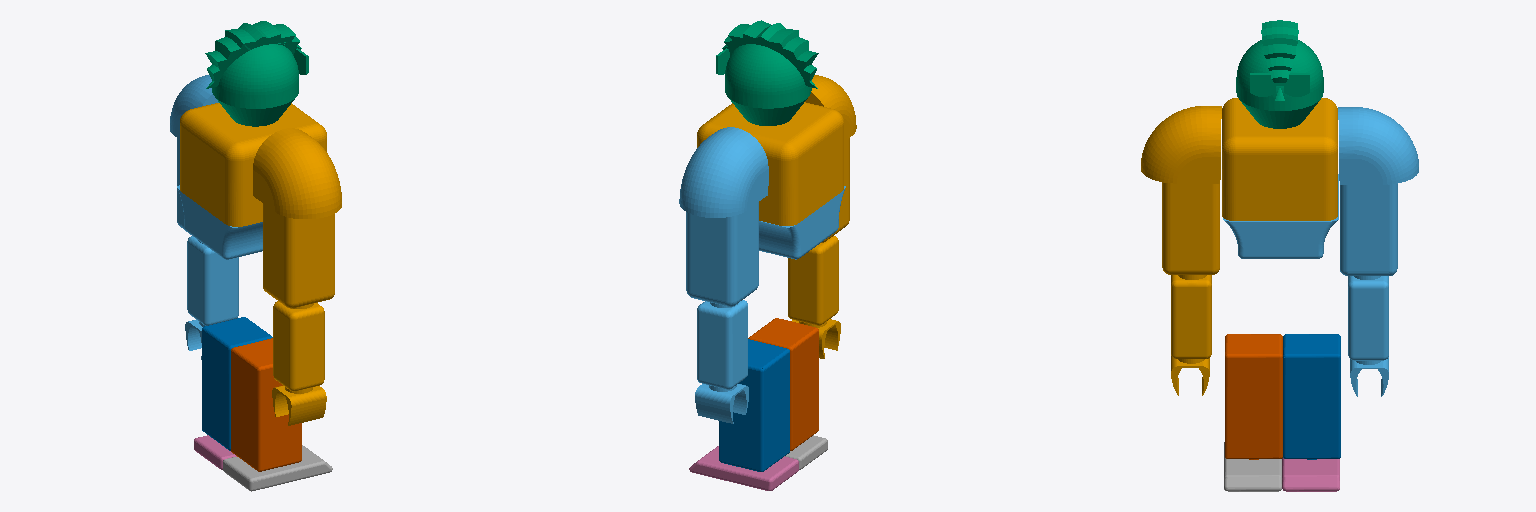
The robot description file, URDF, robot "origins":
<?xml version="1.0"?>
<robot name="origins">
  <link name="base_link">
    <visual>
      <origin rpy="0 0 1.5708" xyz="-0.11 -0.2 1.02"/>
      <geometry>
        <mesh filename="package://project_ars/meshes/BodySae1.dae"/>
      </geometry>
    </visual>
     <collision>
      <geometry>
        <mesh filename="package://project_ars/meshes/BodySae1.dae"/>
      </geometry>
      <origin rpy="0 0 1.5708" xyz="-0.11 -0.2 1.02"/>
    </collision>
    <inertial>
      <mass value="30"/>
      <inertia ixx="1e-3" ixy="0.0" ixz="0.0" iyy="1e-3" iyz="0.0" izz="1e-3"/>
    </inertial>
  </link>
  
  <link name="pelvis">
    <visual>
      <origin rpy="0 0 1.5708" xyz="-0.11 -0.2 -0.05"/>
      <geometry>
        <mesh filename="package://project_ars/meshes/PelvisSet.dae"/>
      </geometry>
    </visual>
     <collision>
      <geometry>
        <mesh filename="package://project_ars/meshes/PelvisSet.dae"/>
      </geometry>
      <origin rpy="0 0 1.5708" xyz="-0.11 -0.2 -0.05"/>
    </collision>
    <inertial>
      <mass value="10"/>
      <inertia ixx="1e-3" ixy="0.0" ixz="0.0" iyy="1e-3" iyz="0.0" izz="1e-3"/>
    </inertial>
  </link>
  
  <joint name="base_link_to_pelvis" type="fixed">
    <axis xyz="0 -0.5 0"/>
    <limit effort="1000.0" lower="-0.850" upper="1.3" velocity="0.5"/>
    <parent link="base_link"/>
    <child link="pelvis"/>
    <origin rpy="0 0 0" xyz="0 0 0.92"/>
  </joint>
  
<link name="left_leg">
    <visual>
      <origin rpy="1.5708 0 1.5708" xyz="-0.1 -0.09 -0.44"/>
      <geometry>
        <mesh filename="package://project_ars/meshes/Leg1.dae"/>
      </geometry>
    </visual>
    <collision>
      <geometry>
        <mesh filename="package://project_ars/meshes/Leg1.dae"/>
      </geometry>
      <origin rpy="1.5708 0 1.5708" xyz="-0.1 -0.09 -0.44"/>
    </collision>
    <inertial>
      <mass value="15"/>
      <inertia ixx="1e-3" ixy="0.0" ixz="0.0" iyy="1e-3" iyz="0.0" izz="1e-3"/>
    </inertial>
  </link>
  
  <joint name="pelvis_to_left_leg" type="revolute">
    <axis xyz="0 -0.5 0.45"/>
    <limit effort="1000.0" lower="-0.850" upper="1.3" velocity="0.5"/>
    <parent link="pelvis"/>
    <child link="left_leg"/>
    <origin rpy="0 0 0" xyz="0.1 0.1 -0.05"/>
  </joint>
  
  <link name="right_leg">
    <visual>
      <origin rpy="1.5708 0 1.5708" xyz="-0.1 -0.09 -0.44"/>
      <geometry>
        <mesh filename="package://project_ars/meshes/Leg1.dae"/>
      </geometry>
    </visual>
    <collision>
      <geometry>
        <mesh filename="package://project_ars/meshes/Leg1.dae"/>
      </geometry>
      <origin rpy="1.5708 0 1.5708" xyz="-0.1 -0.09 -0.44"/>
    </collision>
    <inertial>
      <mass value="15"/>
      <inertia ixx="1e-3" ixy="0.0" ixz="0.0" iyy="1e-3" iyz="0.0" izz="1e-3"/>
    </inertial>
  </link>
  
  <joint name="pelvis_to_right_leg" type="revolute">
    <axis xyz="0 -0.5 0"/>
    <limit effort="1000.0" lower="-0.850" upper="1.3" velocity="0.5"/>
    <parent link="pelvis"/>
    <child link="right_leg"/>
    <origin rpy="0 0 0" xyz="0.1 -0.1 -0.05"/>
  </joint>
  
  <link name="left_leg2">
    <visual>
      <origin rpy="1.5708 0 1.5708" xyz="-0.1 -0.09 -0.4"/>
      <geometry>
        <mesh filename="package://project_ars/meshes/Leg2.dae"/>
      </geometry>
    </visual>
    <collision>
      <geometry>
        <mesh filename="package://project_ars/meshes/Leg2.dae"/>
      </geometry>
      <origin rpy="1.5708 0 1.5708" xyz="-0.1 -0.09 -0.4"/>
    </collision>
    <inertial>
      <mass value="15"/>
      <inertia ixx="1e-3" ixy="0.0" ixz="0.0" iyy="1e-3" iyz="0.0" izz="1e-3"/>
    </inertial>
  </link>
  
  <joint name="left_leg_to_left_leg2" type="revolute">
    <axis xyz="0 -0.5 0"/>
    <limit effort="1000.0" lower="-0.850" upper="1.3" velocity="0.5"/>
    <parent link="left_leg"/>
    <child link="left_leg2"/>
    <origin rpy="0 0 0" xyz="0 0 -0.43"/>
  </joint>
  
  <link name="right_leg2">
    <visual>
      <origin rpy="1.5708 0 1.5708" xyz="-0.1 -0.09 -0.4"/>
      <geometry>
        <mesh filename="package://project_ars/meshes/Leg2.dae"/>
      </geometry>
    </visual>
    <collision>
      <geometry>
        <mesh filename="package://project_ars/meshes/Leg2.dae"/>
      </geometry>
      <origin rpy="1.5708 0 1.5708" xyz="-0.1 -0.09 -0.4"/>
    </collision>
    <inertial>
      <mass value="15"/>
      <inertia ixx="1e-3" ixy="0.0" ixz="0.0" iyy="1e-3" iyz="0.0" izz="1e-3"/>
    </inertial>
  </link>
  
  <joint name="right_leg_to_right_leg2" type="revolute">
    <axis xyz="0 -0.5 0"/>
    <limit effort="1000.0" lower="-0.850" upper="1.3" velocity="0.5"/>
    <parent link="right_leg"/>
    <child link="right_leg2"/>
    <origin rpy="0 0 0" xyz="0 0 -0.43"/>
  </joint>  

  <link name="left_leg3">
    <visual>
      <origin rpy="0 0 1.5708" xyz="0.2 -0.15 -0.05"/>
      <geometry>
        <mesh filename="package://project_ars/meshes/Leg3.dae"/>
      </geometry>
    </visual>
    <collision>
      <geometry>
        <mesh filename="package://project_ars/meshes/Leg3.dae"/>
      </geometry>
      <origin rpy="0 0 1.5708" xyz="0.2 -0.15 -0.05"/>
    </collision>
    <inertial>
      <mass value="15"/>
      <inertia ixx="1e-3" ixy="0.0" ixz="0.0" iyy="1e-3" iyz="0.0" izz="1e-3"/>
    </inertial>
  </link>
  
  <joint name="left_leg2_to_left_leg3" type="revolute">
    <axis xyz="0 -0.5 0"/>
    <limit effort="1000.0" lower="-0.850" upper="1.3" velocity="0.5"/>
    <parent link="left_leg2"/>
    <child link="left_leg3"/>
    <origin rpy="0 0 0" xyz="0 0 -0.4"/>
  </joint>
  
  <link name="right_leg3">
    <visual>
      <origin rpy="0 0 1.5708" xyz="0.2 -0.15 -0.05"/>
      <geometry>
        <mesh filename="package://project_ars/meshes/Leg3.dae"/>
      </geometry>
    </visual>
    <collision>
      <geometry>
        <mesh filename="package://project_ars/meshes/Leg3.dae"/>
      </geometry>
      <origin rpy="0 0 1.5708" xyz="0.2 -0.15 -0.05"/>
    </collision>
    <inertial>
      <mass value="15"/>
      <inertia ixx="1e-3" ixy="0.0" ixz="0.0" iyy="1e-3" iyz="0.0" izz="1e-3"/>
    </inertial>
  </link>
  
  <joint name="right_leg2_to_right_leg3" type="revolute">
    <axis xyz="0 -0.5 0"/>
    <limit effort="1000.0" lower="-0.850" upper="1.3" velocity="0.5"/>
    <parent link="right_leg2"/>
    <child link="right_leg3"/>
    <origin rpy="0 0 0" xyz="0 0 -0.4"/>
  </joint>  
  
  <link name="right_hand">
    <visual>
      <origin rpy="0 0 1.5708" xyz="-0.13 -0.33 -0.9"/>
      <geometry>
        <mesh filename="package://project_ars/meshes/HandSat.dae"/>
      </geometry>
    </visual>
    <collision>
      <geometry>
        <mesh filename="package://project_ars/meshes/HandSat.dae"/>
      </geometry>
      <origin rpy="0 0 1.5708" xyz="-0.13 -0.33 -0.9"/>
    </collision>
    <inertial>
      <mass value="8"/>
      <inertia ixx="1e-3" ixy="0.0" ixz="0.0" iyy="1e-3" iyz="0.0" izz="1e-3"/>
    </inertial>
  </link>
  
  <joint name="base_link_to_right_hand" type="revolute">
    <axis xyz="0 -0.5 0"/>
    <limit effort="1000.0" lower="-0.850" upper="3.2" velocity="0.5"/>
    <parent link="base_link"/>
    <child link="right_hand"/>
    <origin rpy="0 0 0" xyz="0.1 -0.15 1.2"/>
  </joint>
  
  <link name="left_hand">
    <visual>
      <origin rpy="0 0 1.5708" xyz="-0.13 -0.33 -0.9"/>
      <geometry>
        <mesh filename="package://project_ars/meshes/HandSat.dae"/>
      </geometry>
    </visual>
    <collision>
      <geometry>
        <mesh filename="package://project_ars/meshes/HandSat.dae"/>
      </geometry>
      <origin rpy="0 0 1.5708" xyz="-0.13 -0.33 -0.9"/>
    </collision>
    <inertial>
      <mass value="8"/>
      <inertia ixx="1e-3" ixy="0.0" ixz="0.0" iyy="1e-3" iyz="0.0" izz="1e-3"/>
    </inertial>
  </link>
  
  <joint name="base_link_to_left_hand" type="revolute">
    <axis xyz="0 0.5 0"/>
    <limit effort="1000.0" lower="-0.850" upper="3.2" velocity="0.5"/>
    <parent link="base_link"/>
    <child link="left_hand"/>
    <origin rpy="0 0 3.1416" xyz="0.1 0.15 1.2"/>
  </joint>
  
  <link name="head">
    <visual>
      <origin rpy="0 0 1.5708" xyz="-0.2 -0.15 0"/>
      <geometry>
        <mesh filename="package://project_ars/meshes/HeadSat.dae"/>
      </geometry>
    </visual>
    <collision>
      <geometry>
        <mesh filename="package://project_ars/meshes/HeadSat.dae"/>
      </geometry>
      <origin rpy="0 0 1.5708" xyz="-0.2 -0.15 0"/>
    </collision>
    <inertial>
      <mass value="2"/>
      <inertia ixx="1e-3" ixy="0.0" ixz="0.0" iyy="1e-3" iyz="0.0" izz="1e-3"/>
    </inertial>
  </link>
  
  <joint name="base_link_to_head" type="revolute">
    <axis xyz="0 0 0.5"/>
    <limit effort="1000.0" lower="-0.850" upper="0.850" velocity="0.5"/>
    <parent link="base_link"/>
    <child link="head"/>
    <origin rpy="0 0 0" xyz="0.1 0 1.32"/>
  </joint>
</robot>

--- What the picture shows (computed from the rendered views, not written in the file) ---
Views: 3 orthographic renders of the robot side by side, from view 1: azimuth 30°, elevation 25°; view 2: azimuth 150°, elevation 25°; view 3: azimuth 270°, elevation 25°.
Model origins with 11 links and 10 joints (9 revolute, 1 fixed), rooted at base_link, posed all joints at 0.
Links seen in each view (by area): view 1: right_hand, base_link, head, right_leg2, left_hand, left_leg2, pelvis, right_leg3, left_leg3; view 2: left_hand, base_link, head, left_leg2, right_hand, right_leg2, pelvis, left_leg3, right_leg3; view 3: right_hand, left_hand, base_link, left_leg2, right_leg2, head, pelvis, right_leg3, left_leg3.
Link boxes in pixels (left/top/right/bottom): right_hand: left=253, top=128, right=341, bottom=425; base_link: left=180, top=103, right=326, bottom=226; head: left=205, top=21, right=308, bottom=126; right_leg2: left=231, top=338, right=301, bottom=471; left_hand: left=170, top=75, right=238, bottom=359; left_leg2: left=202, top=317, right=272, bottom=450; pelvis: left=177, top=185, right=262, bottom=259; right_leg3: left=223, top=445, right=332, bottom=491; left_leg3: left=194, top=435, right=236, bottom=469; left_hand: left=679, top=127, right=768, bottom=423; base_link: left=697, top=102, right=843, bottom=225; head: left=716, top=20, right=818, bottom=125; left_leg2: left=719, top=339, right=789, bottom=471; right_hand: left=788, top=75, right=856, bottom=358; right_leg2: left=748, top=318, right=818, bottom=450; pelvis: left=759, top=186, right=845, bottom=259; left_leg3: left=689, top=446, right=798, bottom=490; right_leg3: left=785, top=435, right=827, bottom=469; right_hand: left=1141, top=106, right=1221, bottom=395; left_hand: left=1338, top=107, right=1418, bottom=396; base_link: left=1222, top=98, right=1337, bottom=220; left_leg2: left=1283, top=334, right=1340, bottom=459; right_leg2: left=1225, top=334, right=1282, bottom=459; head: left=1236, top=20, right=1323, bottom=128; pelvis: left=1223, top=174, right=1338, bottom=258; right_leg3: left=1224, top=442, right=1281, bottom=491; left_leg3: left=1282, top=458, right=1339, bottom=491.
Size in the robot's own frame: 0.41 by 0.96 by 1.67 metres.
9 mesh visuals loaded from 7 distinct referenced files (6 Collada DAE); not drawn: 2 (reference not matched to a file when rendering).